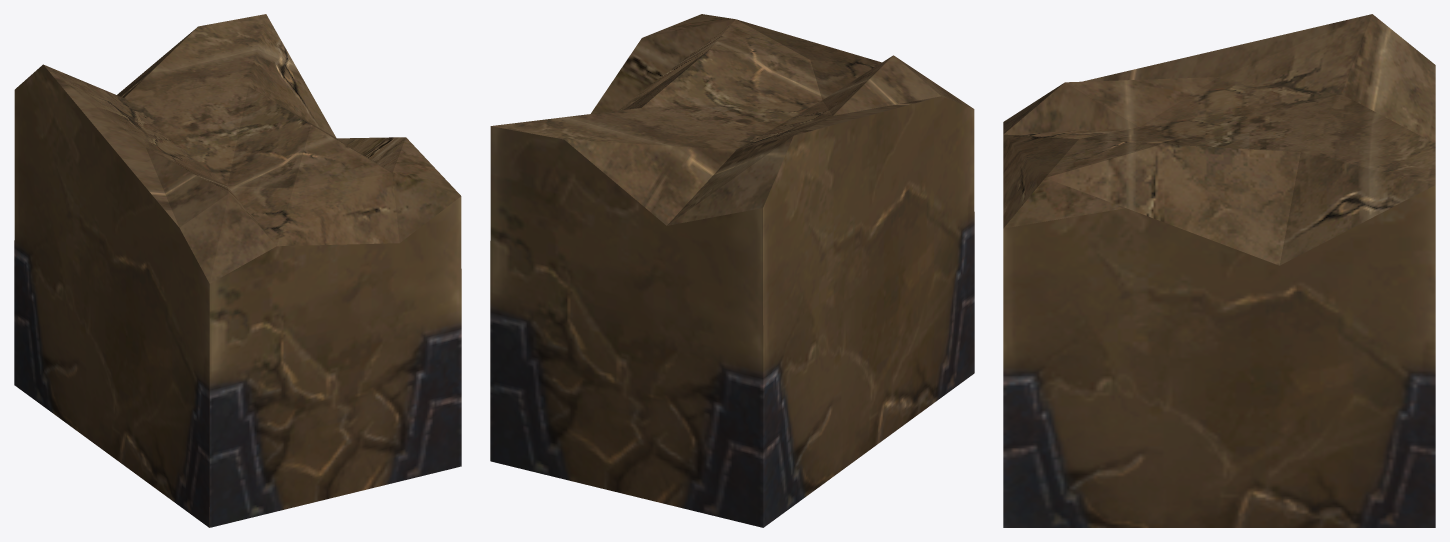
File: A_shiqiang02_posun01.fbx
3 renders of one model, left to right at view 1: azimuth 30°, elevation 25°; view 2: azimuth 150°, elevation 25°; view 3: azimuth 270°, elevation 25°, orthographic. The views are drawn at different scales.
Visible parts, largest first — view 1: A_shiqiang02_posun02; view 2: A_shiqiang02_posun02; view 3: A_shiqiang02_posun02.
Part boxes in pixels (box(x1,y1,x2,y2)): A_shiqiang02_posun02: box(14, 14, 461, 527); A_shiqiang02_posun02: box(490, 14, 974, 527); A_shiqiang02_posun02: box(1003, 14, 1435, 527).
Size of the model in its own units: 88.44 by 114 by 119.
